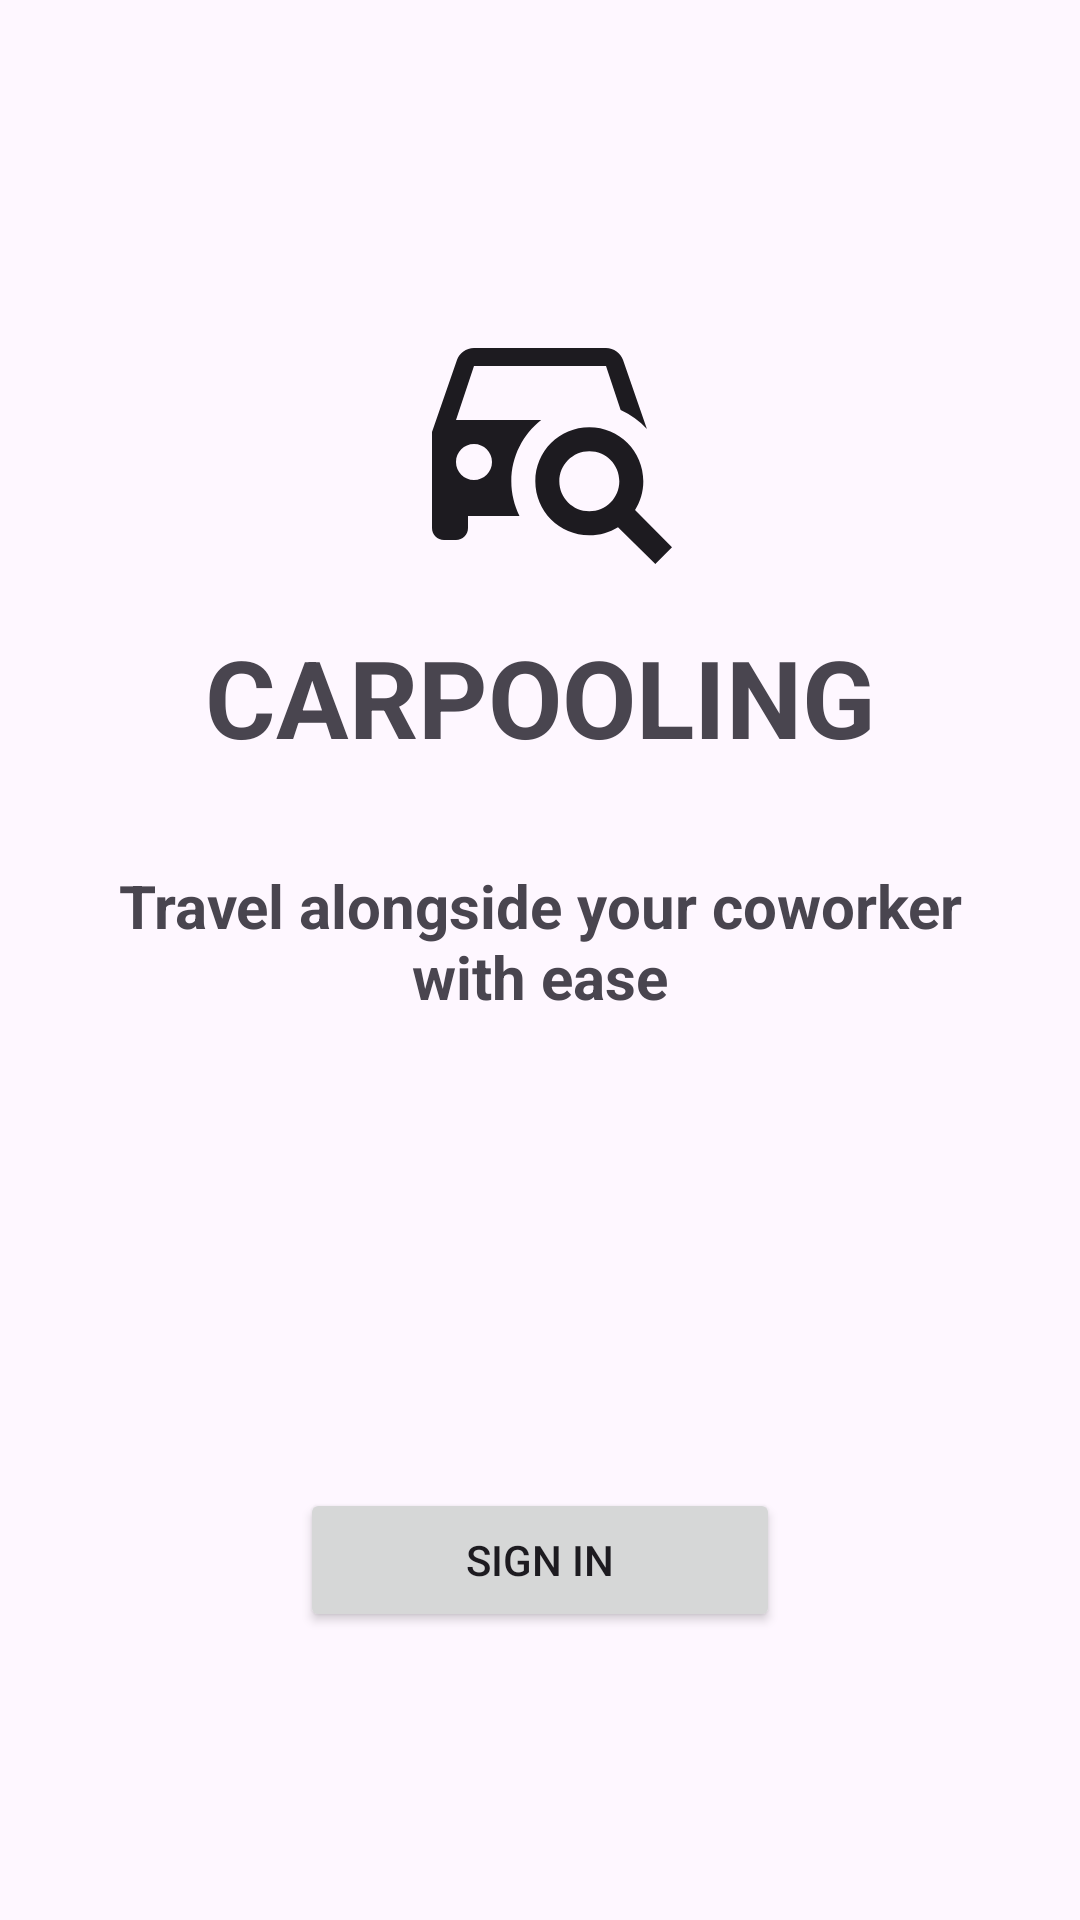

Icon click points for this 1080px×1920px phone screenshot, format (x,y):
car search: (552,456)
